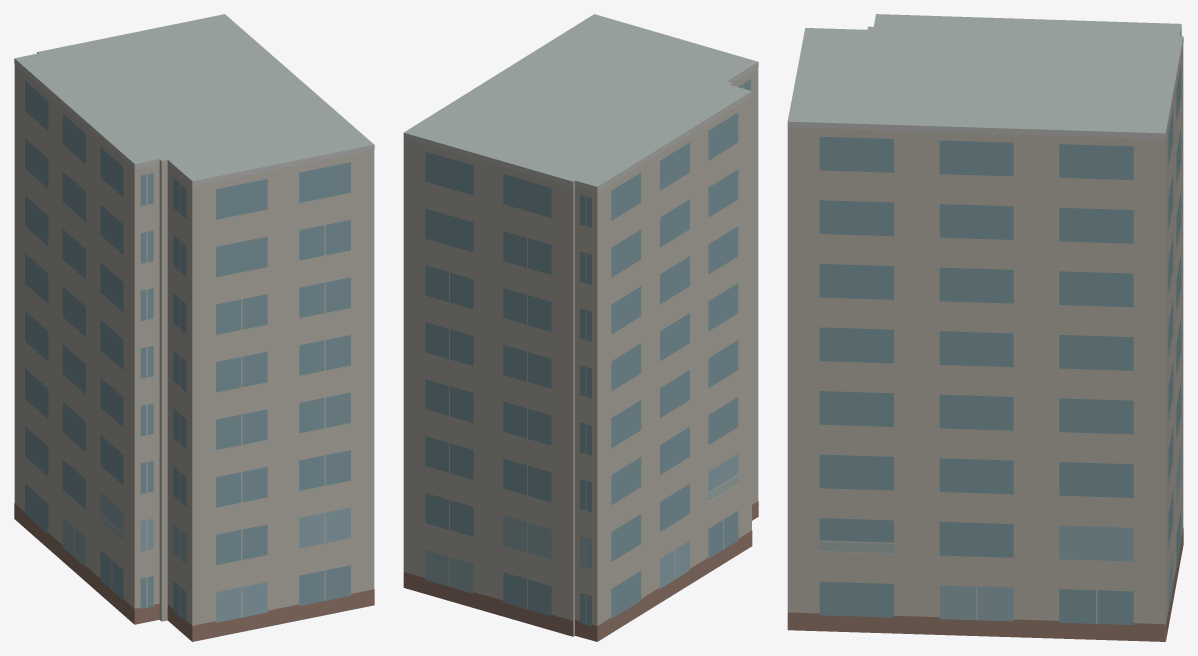
The model's file is survey-upis-32663980.glb.
The picture shows the model from 3 angles, left to right: view 1: azimuth 30°, elevation 25°; view 2: azimuth 150°, elevation 25°; view 3: azimuth 270°, elevation 25°; orthographic projection. The views are drawn at different scales.
Visible parts, largest first — view 1: survey-upis-32663980.tmp; view 2: survey-upis-32663980.tmp; view 3: survey-upis-32663980.tmp.
Part boxes in pixels (bbox=[...]): survey-upis-32663980.tmp: bbox=[14, 14, 374, 641]; survey-upis-32663980.tmp: bbox=[403, 14, 758, 641]; survey-upis-32663980.tmp: bbox=[787, 14, 1183, 641].
Size of the model in its own units: 10.63 by 21.1 by 14.9.
